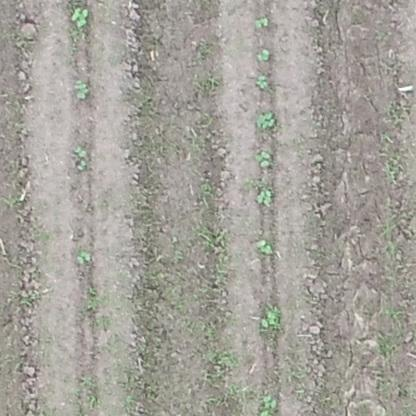vc: (70, 6, 89, 28), (258, 309, 277, 330), (72, 79, 91, 99), (74, 145, 88, 171), (257, 110, 276, 129), (256, 188, 273, 209), (257, 238, 275, 257), (255, 151, 272, 168), (77, 249, 92, 265), (262, 394, 278, 409), (256, 46, 270, 62), (255, 15, 270, 29), (255, 75, 268, 88)
